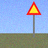sign: (26, 1, 41, 37)
